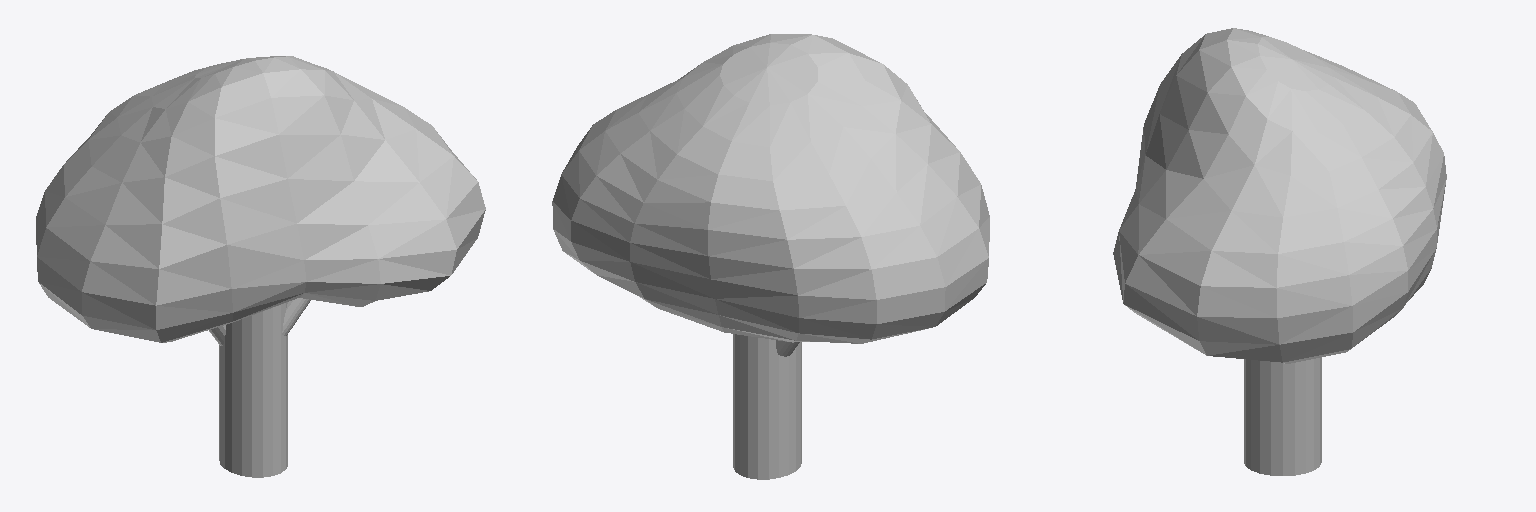
Rendered from simpleTree.obj.
The picture shows the model from 3 angles: view 1: azimuth 30°, elevation 25°; view 2: azimuth 150°, elevation 25°; view 3: azimuth 270°, elevation 25°; orthographic projection.
Bounding box in the file's own units: 5.72 × 5.7 × 4.17.